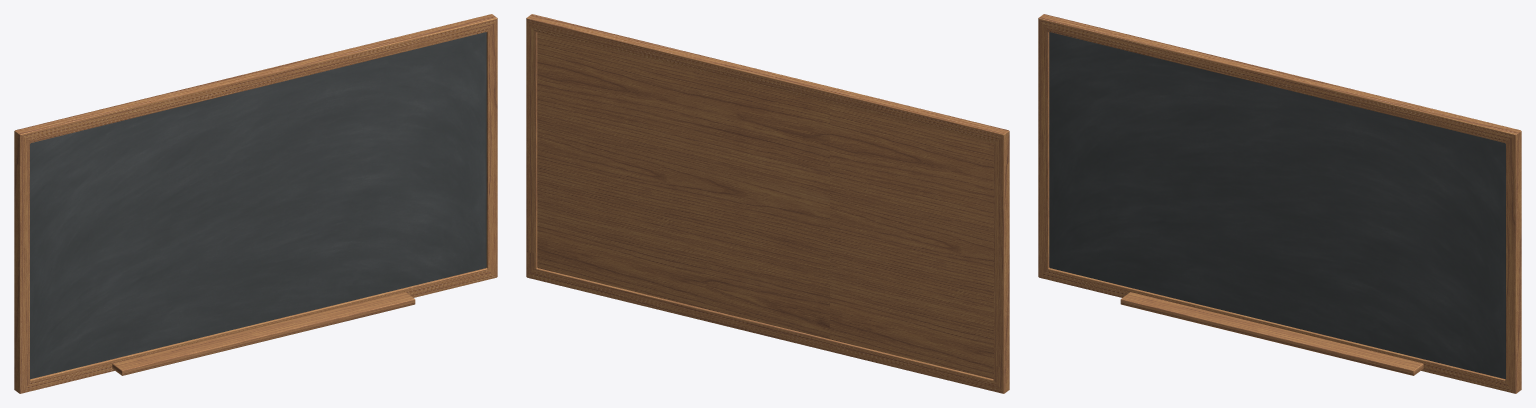
The model's file is SM_chalkboard_01.fbx.
The picture shows the model from 3 angles, left to right: view 1: azimuth 30°, elevation 25°; view 2: azimuth 150°, elevation 25°; view 3: azimuth 330°, elevation 25°; orthographic projection.
Parts seen in each view (by area): view 1: chalkboard01; view 2: chalkboard01; view 3: chalkboard01.
Part boxes in pixels (x1=…): chalkboard01: x1=14, y1=14, x2=497, y2=393; chalkboard01: x1=526, y1=14, x2=1009, y2=393; chalkboard01: x1=1038, y1=14, x2=1521, y2=393.
Bounding box in the file's own units: 164 × 85.3 × 9.63.
2 materials, 2 textured.
